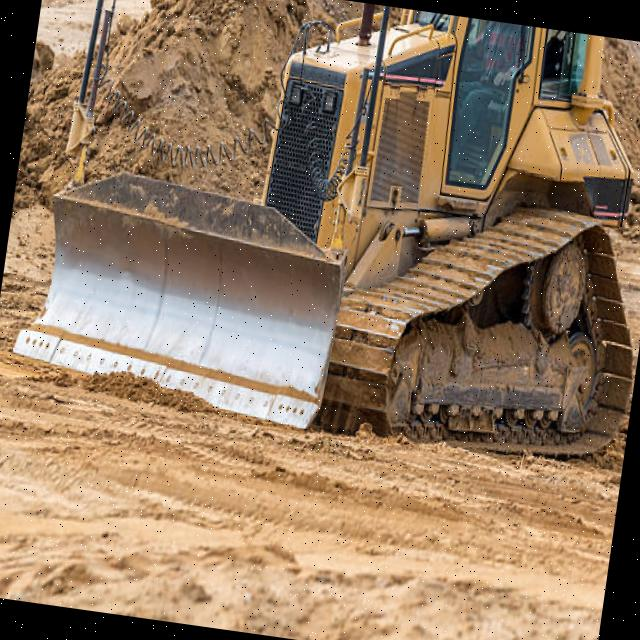Bulldozer: (4, 0, 640, 476)
